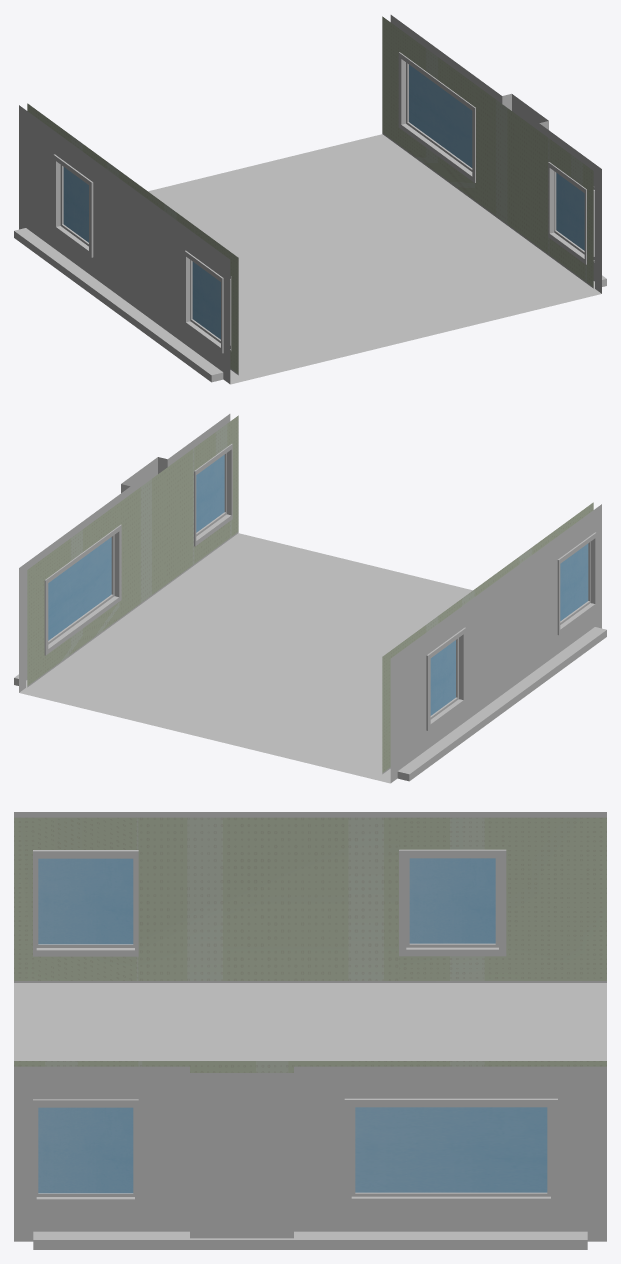
The model's file is Floor_Last_B.fbx.
The picture shows the model from 3 angles, top to bottom: view 1: azimuth 30°, elevation 25°; view 2: azimuth 150°, elevation 25°; view 3: azimuth 270°, elevation 25°; orthographic projection. The views are drawn at different scales.
Parts seen in each view (by area): view 1: Floor_Last_B; view 2: Floor_Last_B; view 3: Floor_Last_B.
Part boxes in pixels (x1=…): Floor_Last_B: x1=14, y1=15, x2=606, y2=384; Floor_Last_B: x1=14, y1=414, x2=606, y2=783; Floor_Last_B: x1=14, y1=812, x2=606, y2=1249.
Bounding box in the file's own units: 1224 × 369 × 1133.
